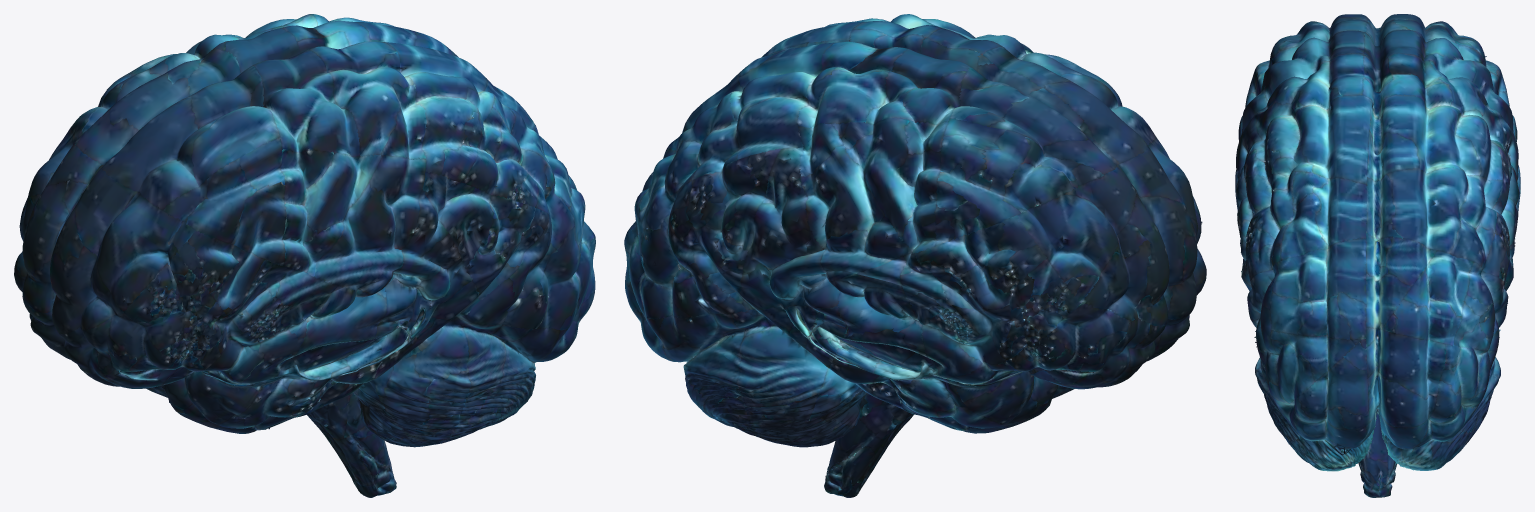
Rendered from cerebro.glb.
3 renders of one model, left to right at view 1: azimuth 30°, elevation 25°; view 2: azimuth 150°, elevation 25°; view 3: azimuth 270°, elevation 25°, orthographic. The views are drawn at different scales.
Visible parts, largest first — view 1: tmp8wl23z39obj; view 2: tmp8wl23z39obj; view 3: tmp8wl23z39obj.
Part boxes in pixels (x1,y1,x2,y2): tmp8wl23z39obj: (14, 14, 595, 497); tmp8wl23z39obj: (624, 14, 1206, 497); tmp8wl23z39obj: (1235, 14, 1520, 497).
Size of the model in its own units: 0.9999 by 0.8575 by 0.541.
1 material, 1 textured.
